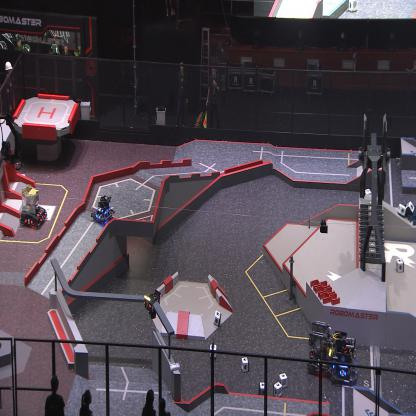car: (330, 332, 358, 386), (306, 320, 332, 376), (19, 184, 48, 230), (90, 194, 116, 227)
